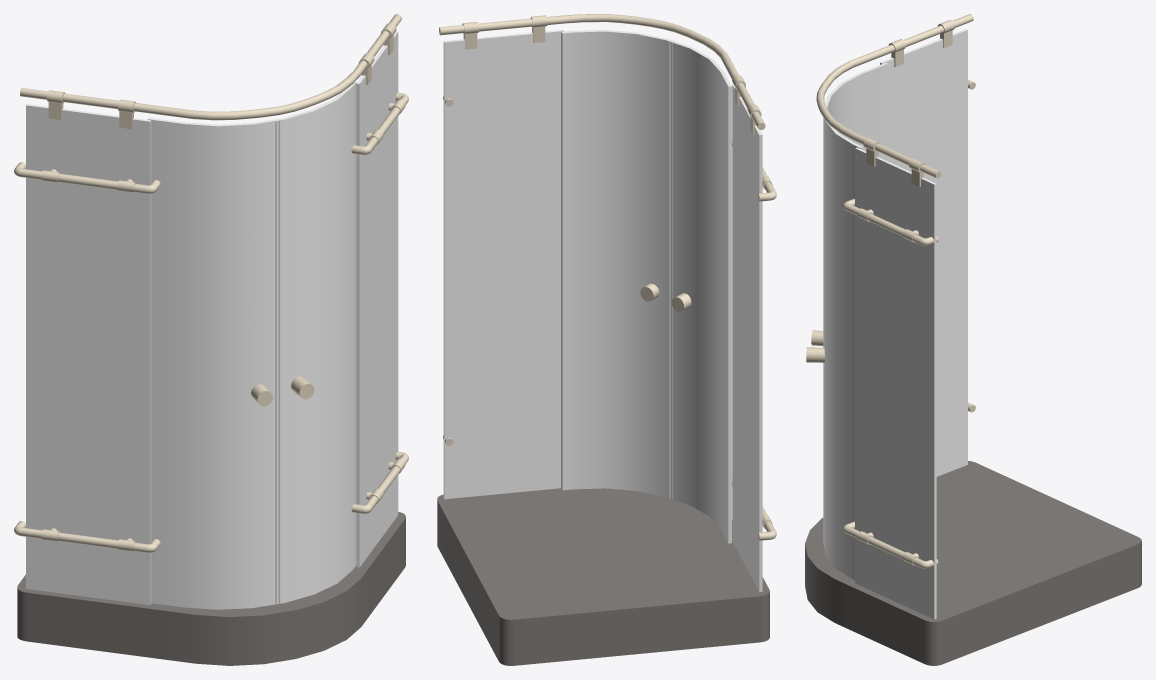
File: A23DMOD_FBX.fbx
3 renders of one model, left to right at view 1: azimuth 30°, elevation 25°; view 2: azimuth 150°, elevation 25°; view 3: azimuth 270°, elevation 25°, orthographic. The views are drawn at different scales.
Parts seen in each view (by area): view 1: A23DOBJ_001; view 2: A23DOBJ_001; view 3: A23DOBJ_001.
Part boxes in pixels (left/top/right/bottom): A23DOBJ_001: left=14, top=14, right=408, bottom=665; A23DOBJ_001: left=437, top=14, right=776, bottom=665; A23DOBJ_001: left=805, top=14, right=1141, bottom=665.
Size of the model in its own units: 148 by 208 by 128.
3 materials, 3 textured.
